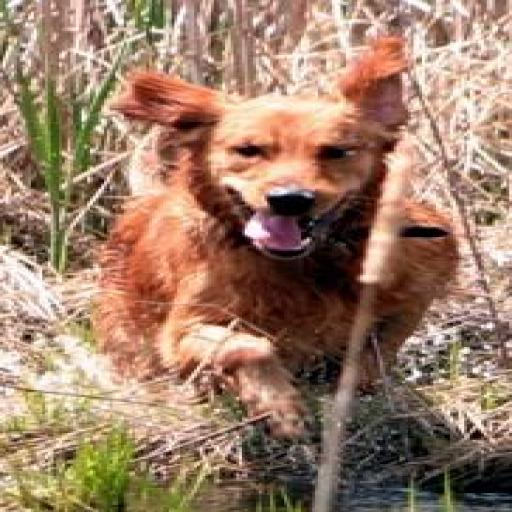dog_face: (131, 55, 412, 259)
